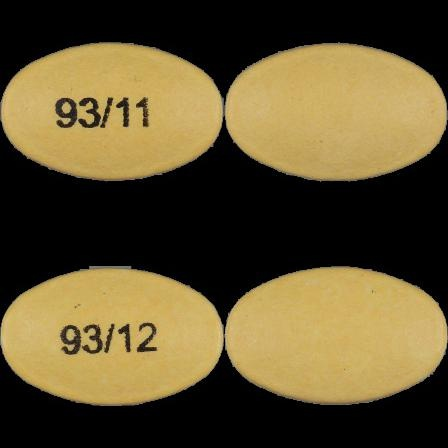42291-658: (0, 0, 224, 224)
